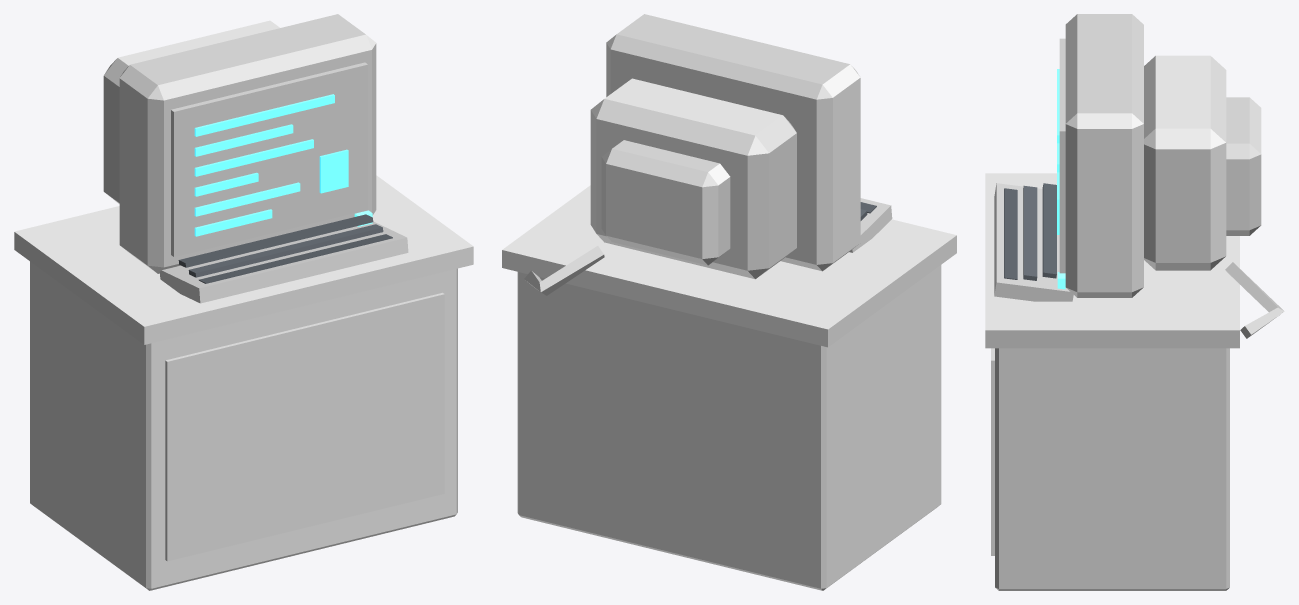
File: Terminal_Offline.fbx
3 renders of one model, left to right at view 1: azimuth 30°, elevation 25°; view 2: azimuth 150°, elevation 25°; view 3: azimuth 270°, elevation 25°, orthographic. The views are drawn at different scales.
Visible parts, largest first — view 1: Terminal_Offline; view 2: Terminal_Offline; view 3: Terminal_Offline.
Part boxes in pixels (x1=…): Terminal_Offline: x1=14, y1=14, x2=473, y2=590; Terminal_Offline: x1=502, y1=14, x2=956, y2=590; Terminal_Offline: x1=985, y1=14, x2=1284, y2=590.
Bounding box in the file's own units: 0.95 × 1.28 × 0.7645.
